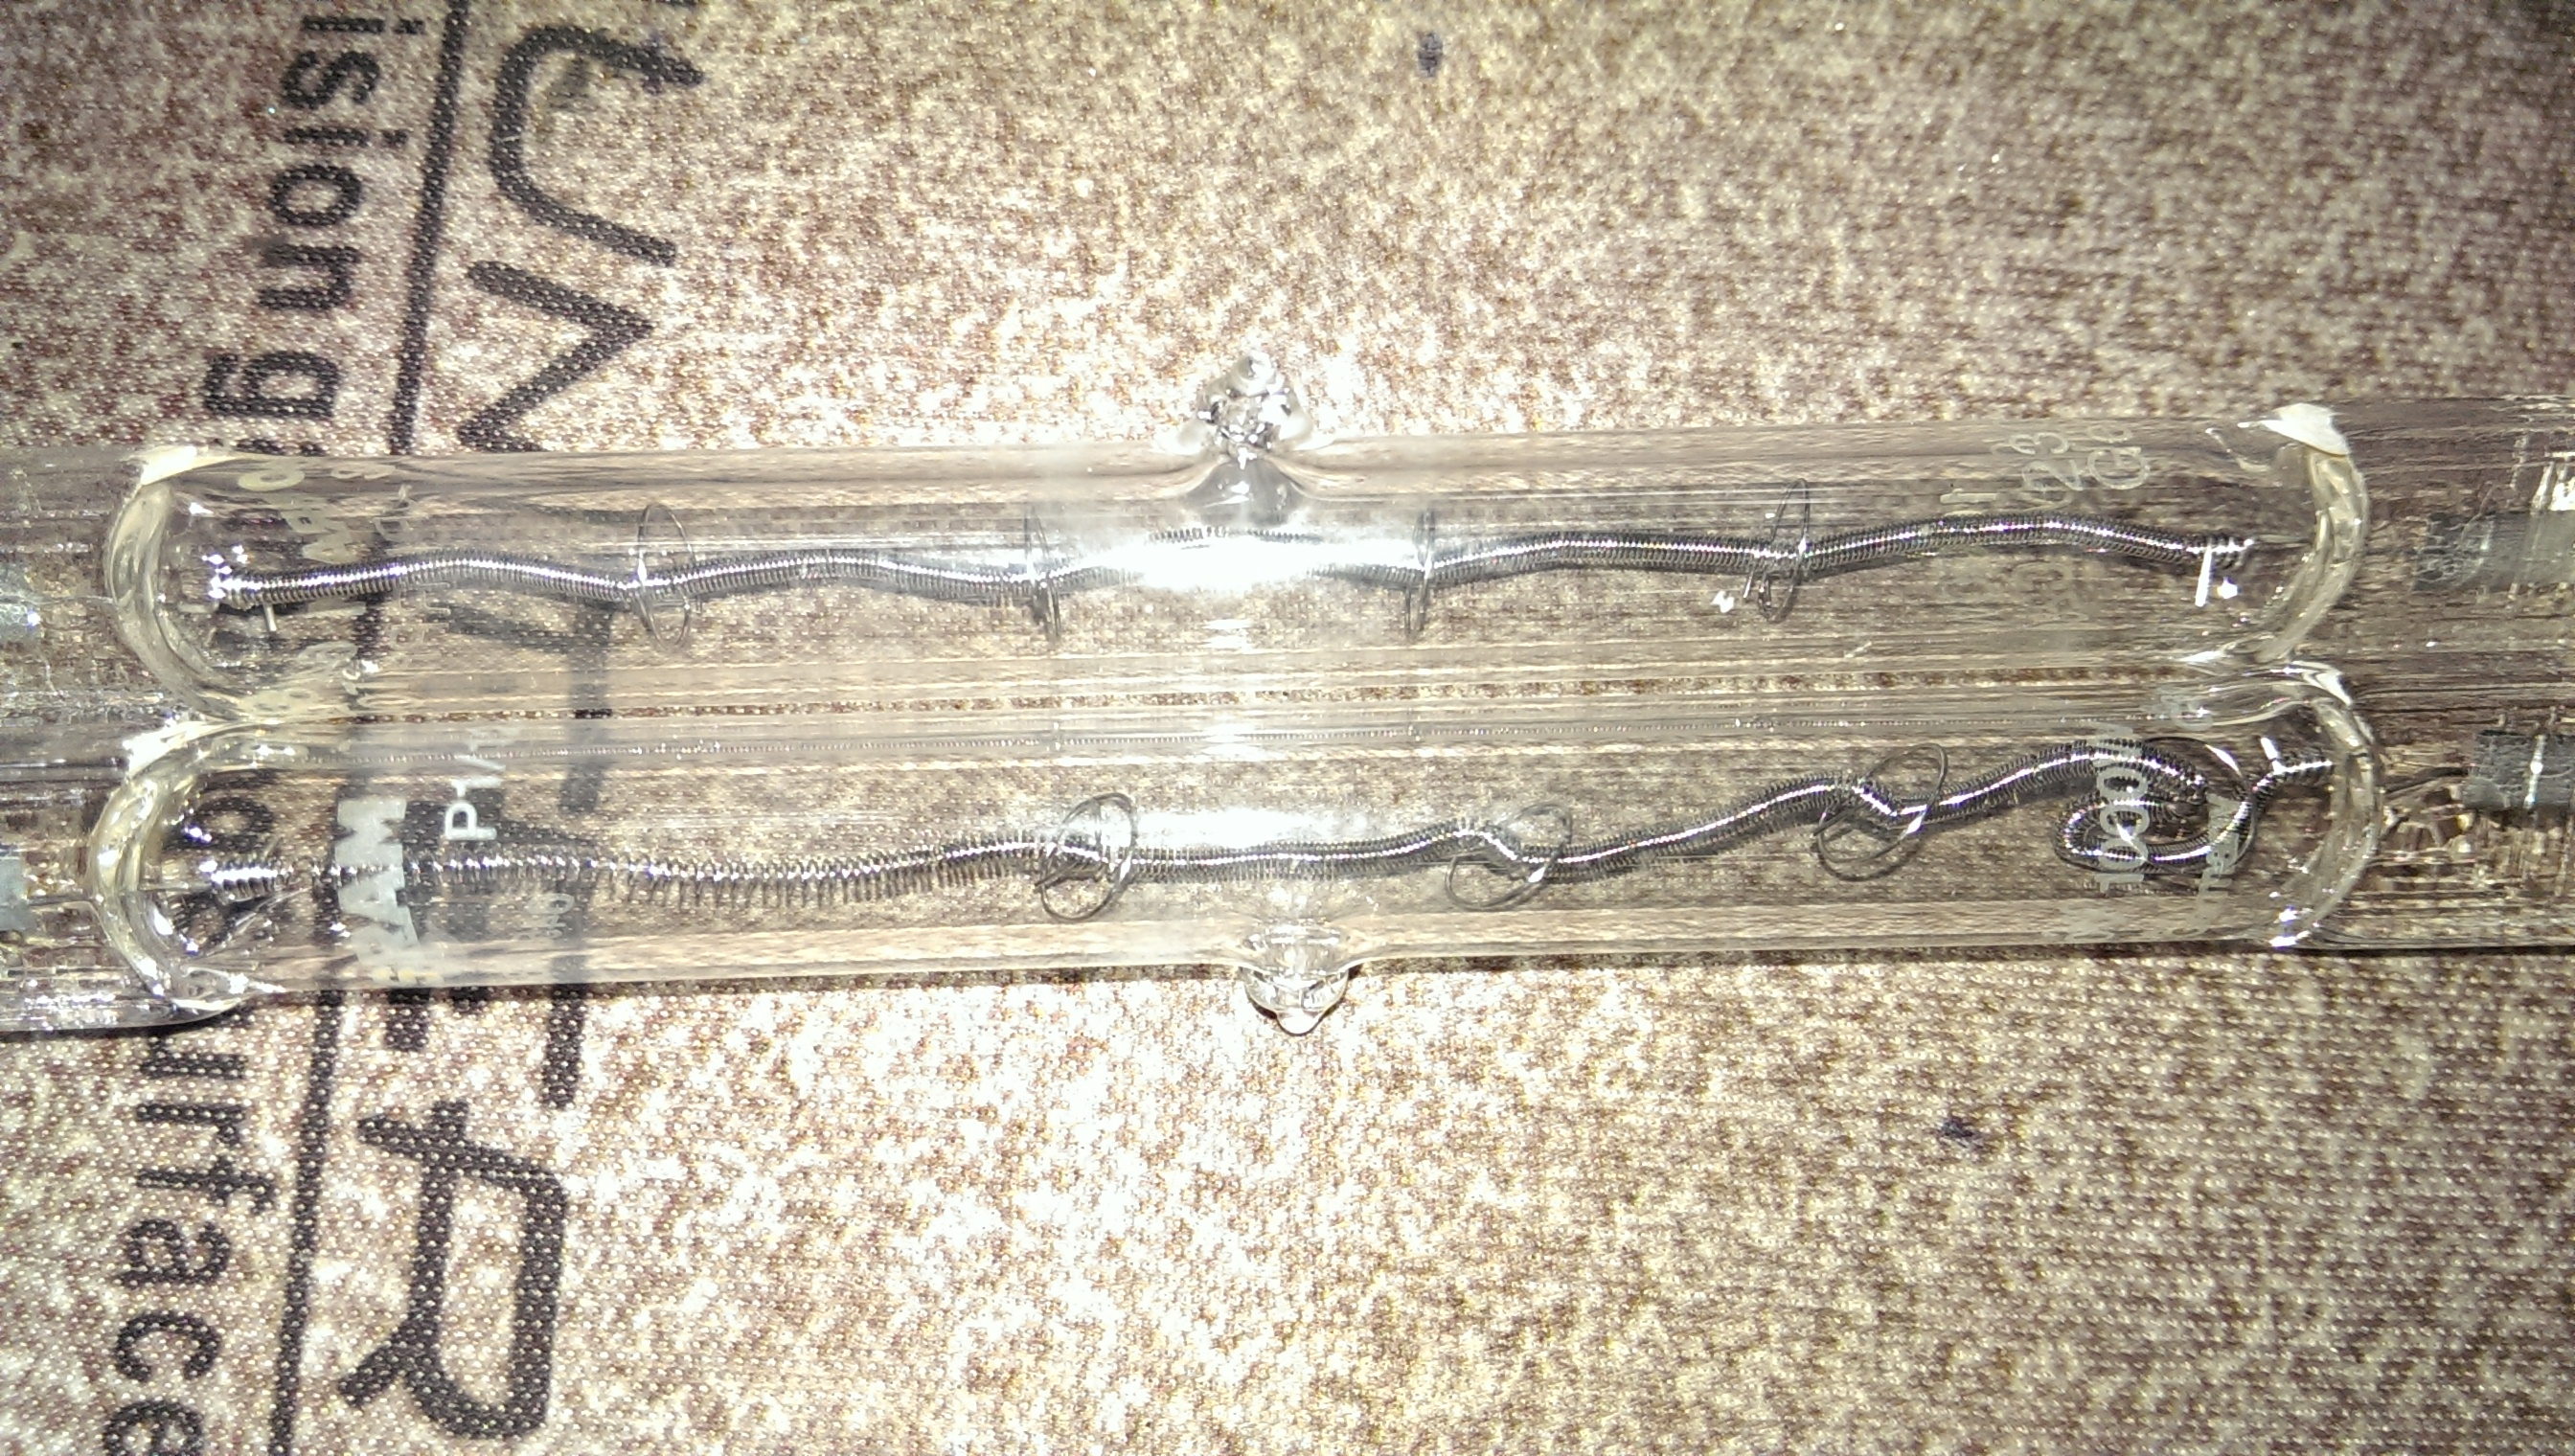Light_bulb: (41, 651, 2575, 1042), (14, 391, 2575, 685)
